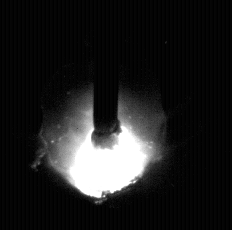arame: (94, 0, 120, 150)
poca: (38, 0, 167, 230)
